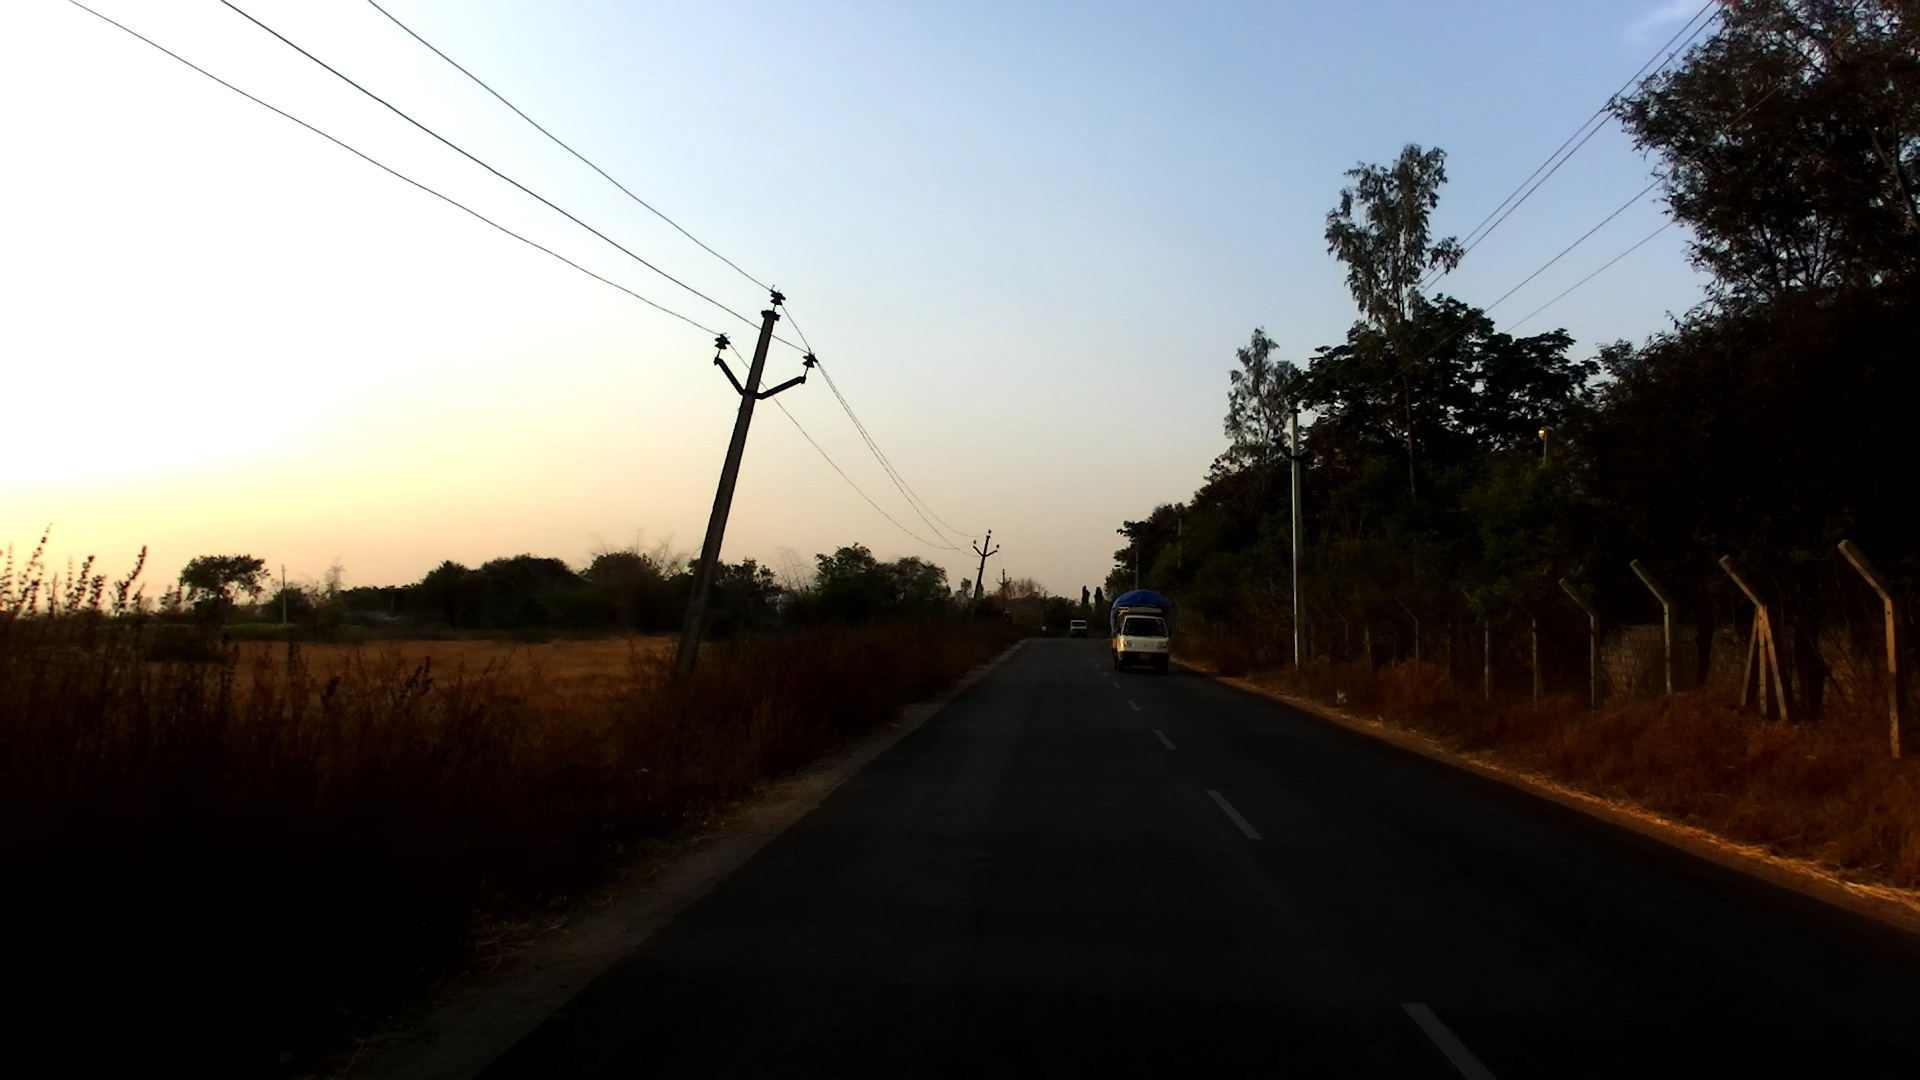bicycle: (1039, 630, 1049, 641)
car: (1068, 618, 1090, 638)
rider: (1039, 621, 1048, 638)
truck: (1112, 590, 1174, 670)
